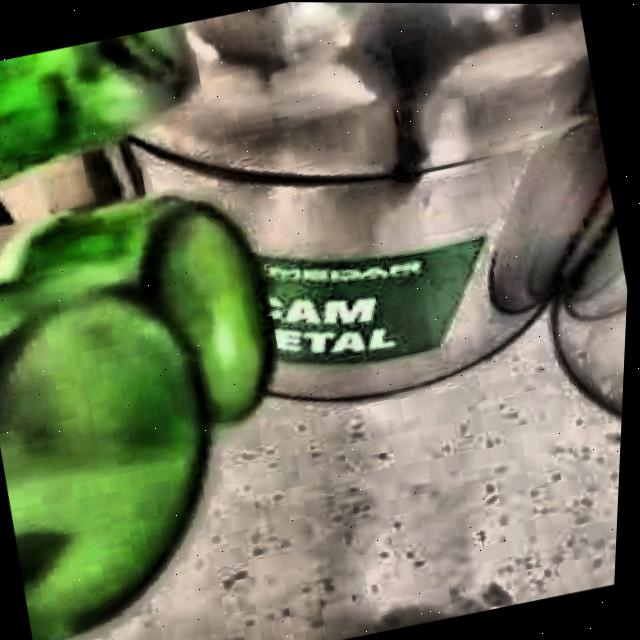glass: (0, 196, 274, 640)
